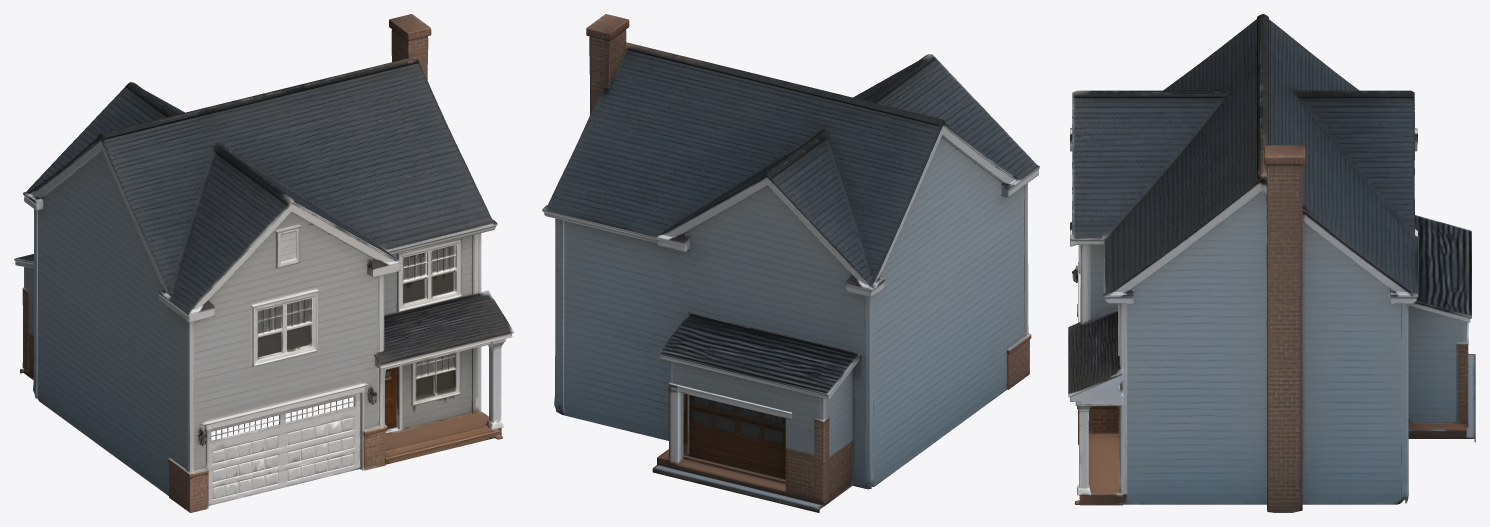
The model's file is colonial.glb.
3 renders of one model, left to right at view 1: azimuth 30°, elevation 25°; view 2: azimuth 150°, elevation 25°; view 3: azimuth 270°, elevation 25°, orthographic. The views are drawn at different scales.
Parts seen in each view (by area): view 1: node_0; view 2: node_0; view 3: node_0.
Boxes of the visible parts, x1,y1,x2,y2 form: node_0: (14, 14, 513, 512); node_0: (542, 14, 1039, 512); node_0: (1068, 14, 1475, 512).
Bounding box in the file's own units: 0.7182 × 0.7016 × 0.7184.
1 material, 1 textured.
